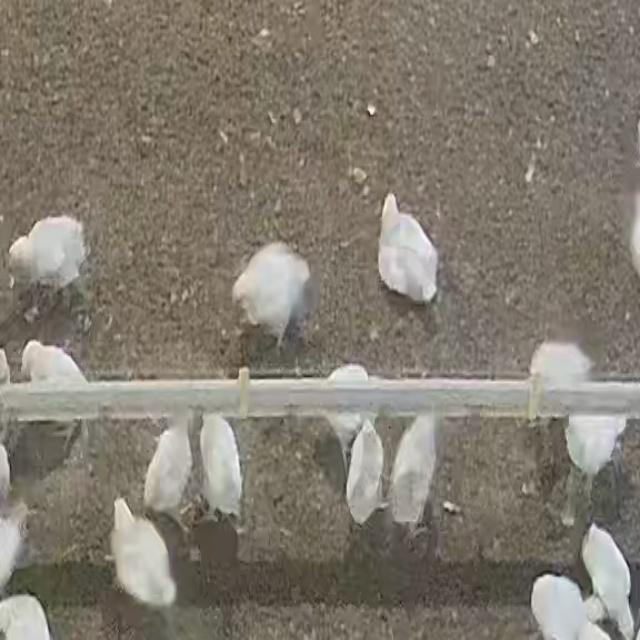chicken: (232, 242, 310, 352), (110, 495, 180, 611), (375, 193, 439, 303), (7, 215, 86, 295), (527, 340, 594, 432), (583, 522, 635, 640), (389, 414, 437, 531), (144, 418, 195, 524), (199, 414, 244, 524), (324, 364, 371, 468), (346, 418, 386, 526), (564, 413, 625, 483), (529, 573, 592, 640), (20, 338, 88, 388)
